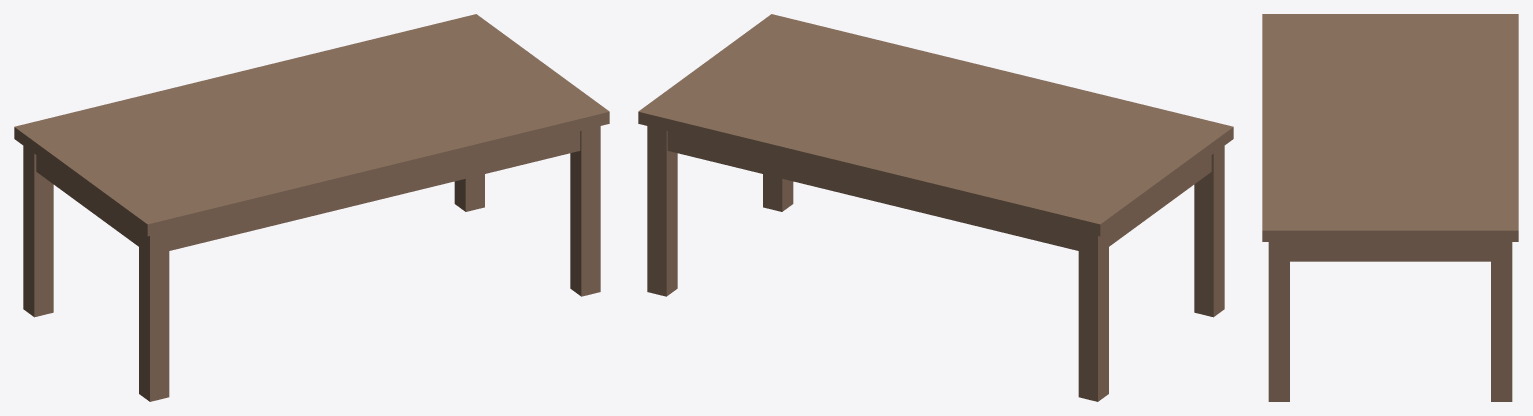
The model's file is 388_センターテーブル.glb.
3 renders of one model, left to right at view 1: azimuth 30°, elevation 25°; view 2: azimuth 150°, elevation 25°; view 3: azimuth 270°, elevation 25°, orthographic. The views are drawn at different scales.
Visible parts, largest first — view 1: 388_センターテーブル; view 2: 388_センターテーブル; view 3: 388_センターテーブル.
Part boxes in pixels (x1,y1,x2,y2): 388_センターテーブル: (14,14,609,401); 388_センターテーブル: (638,14,1233,401); 388_センターテーブル: (1262,14,1518,401).
Bounding box in the file's own units: 1.2 × 0.45 × 0.6.
